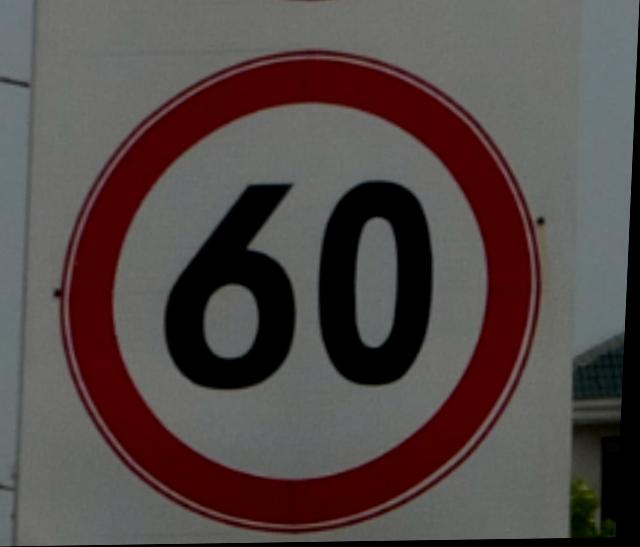limit60: (51, 38, 564, 540)
